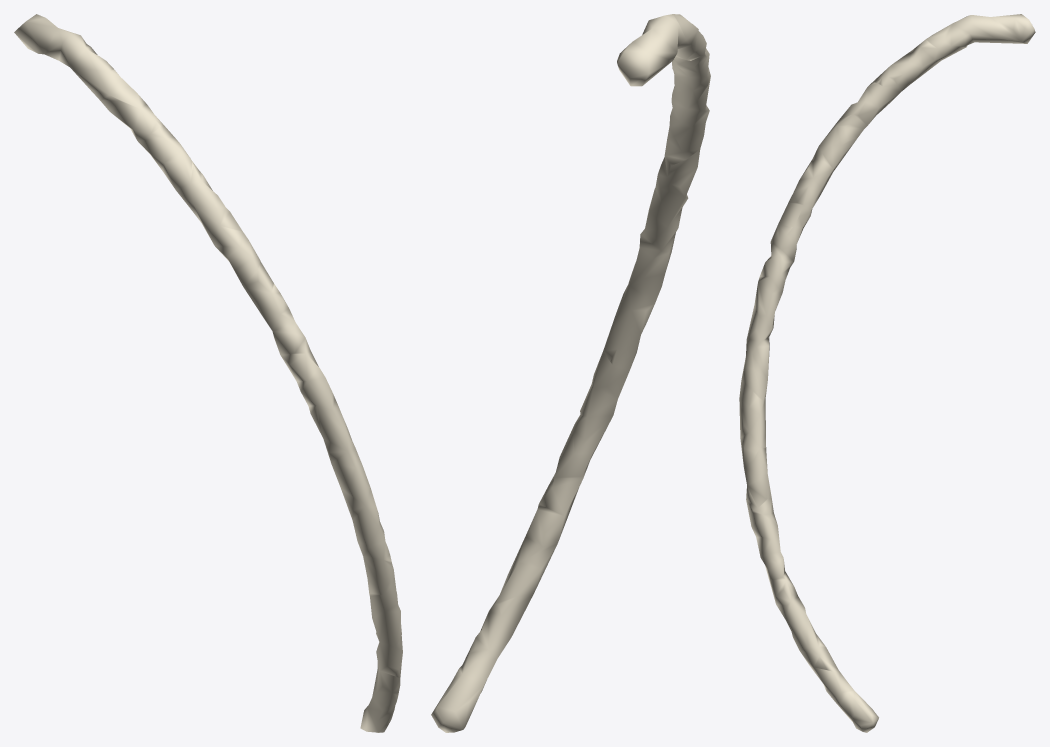
The model's file is rib_10_l.glb.
The picture shows the model from 3 angles, left to right: view 1: azimuth 30°, elevation 25°; view 2: azimuth 150°, elevation 25°; view 3: azimuth 270°, elevation 25°; orthographic projection. The views are drawn at different scales.
Parts seen in each view (by area): view 1: geometry_0; view 2: geometry_0; view 3: geometry_0.
Boxes of the visible parts, <box> form: geometry_0: <box>14,14,402,732</box>; geometry_0: <box>431,14,710,732</box>; geometry_0: <box>739,14,1035,732</box>.
Bounding box in the file's own units: 0.4366 × 1.08 × 0.4697.
